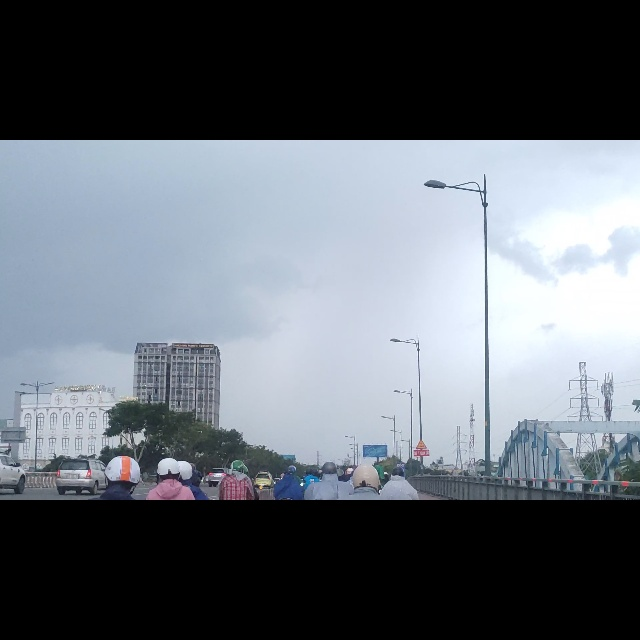bien_nguy_hiem: (416, 531, 428, 550)
